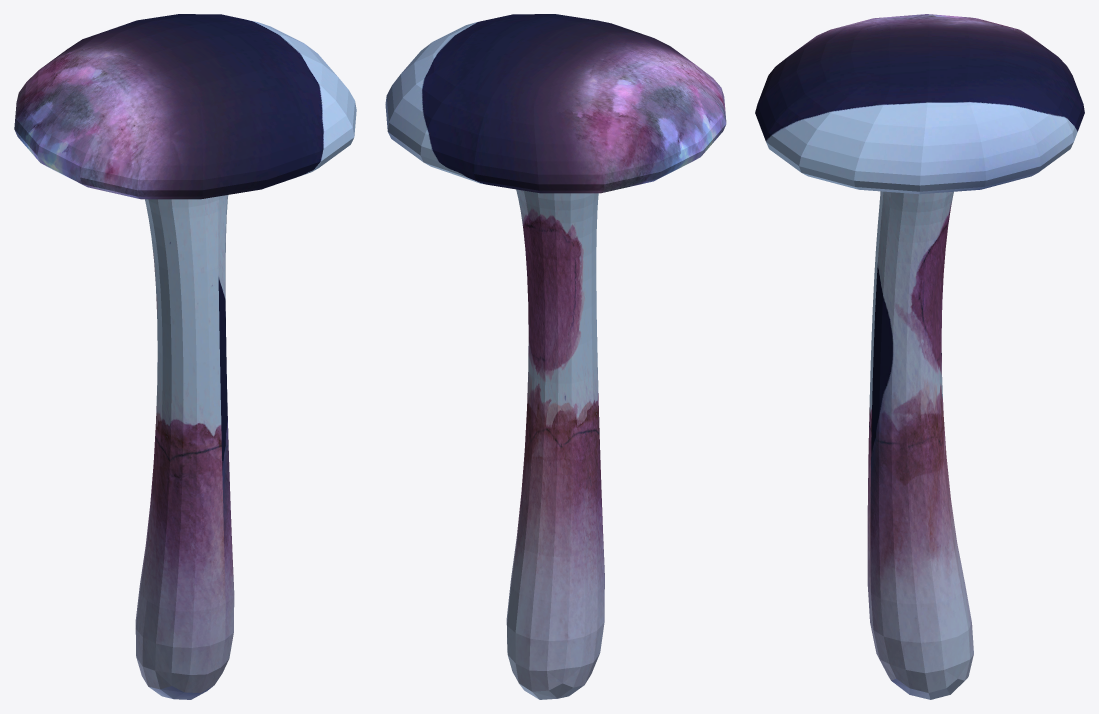
Rendered from mushroom3.gltf.
3 renders of one model, left to right at view 1: azimuth 30°, elevation 25°; view 2: azimuth 150°, elevation 25°; view 3: azimuth 270°, elevation 25°, orthographic.
Parts seen in each view (by area): view 1: mushroom3; view 2: mushroom3; view 3: mushroom3.
Part boxes in pixels (x1,y1,x2,y2): mushroom3: (14, 14, 356, 699); mushroom3: (385, 14, 726, 699); mushroom3: (755, 14, 1084, 699).
Size of the model in its own units: 4.28 by 9 by 4.11.
1 material, 1 textured.
